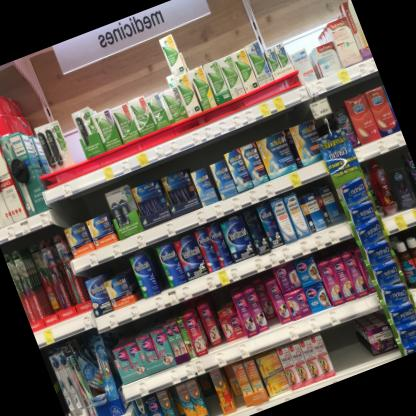empty_space: (334, 317, 375, 370), (56, 110, 86, 163), (320, 327, 350, 375)
